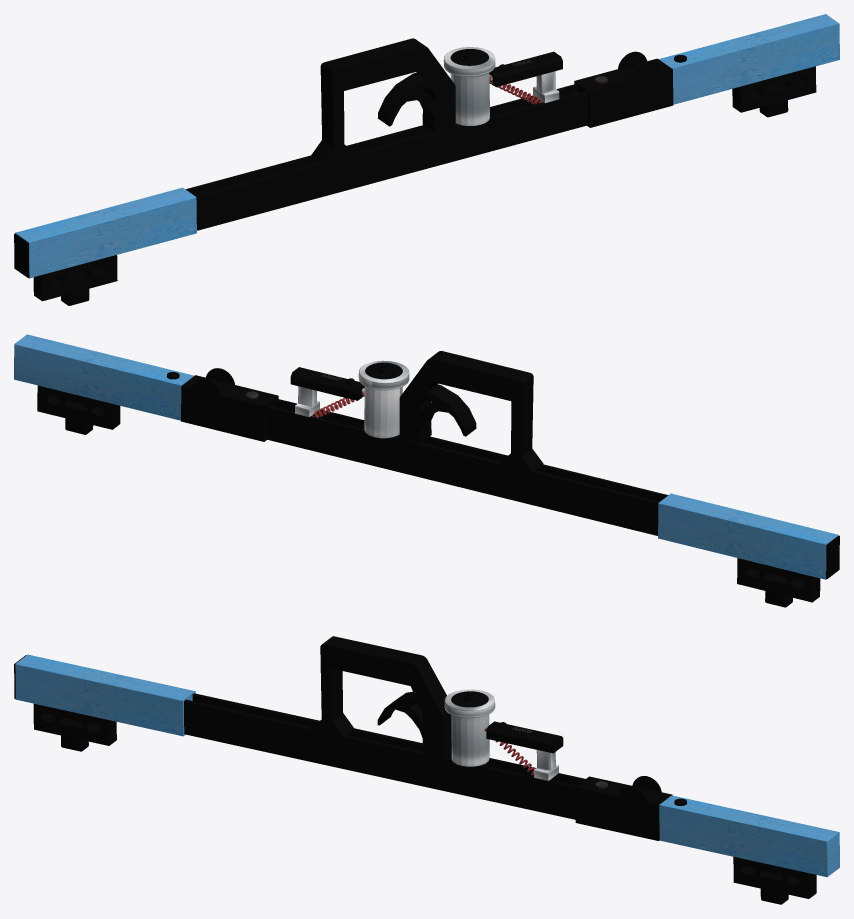
The picture shows the model from 3 angles, top to bottom: view 1: azimuth 30°, elevation 25°; view 2: azimuth 150°, elevation 25°; view 3: azimuth 330°, elevation 25°; orthographic projection. The views are drawn at different scales.
Visible parts, largest first — view 1: 道尺; view 2: 道尺; view 3: 道尺.
Boxes of the visible parts, left/top/right/bottom form: 道尺: left=14, top=14, right=839, bottom=305; 道尺: left=14, top=334, right=839, bottom=607; 道尺: left=14, top=636, right=839, bottom=904.
Size of the model in its own units: 1.46 by 0.2922 by 0.08.
Materials: 9 (4 with a texture image).
